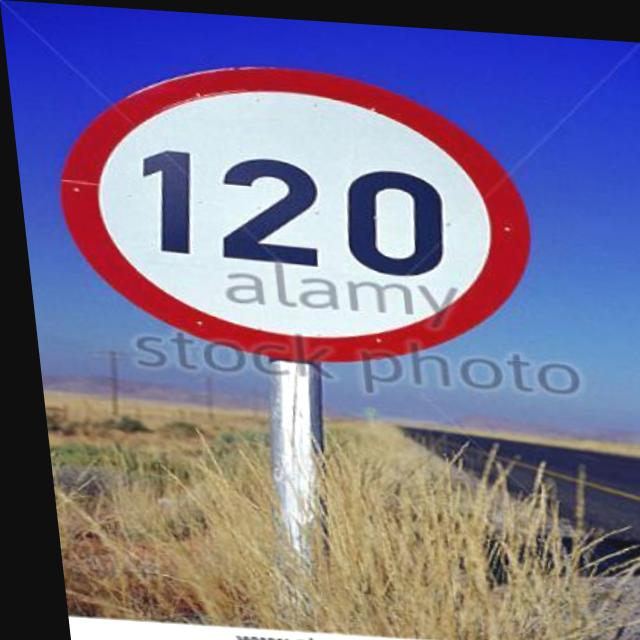limit120: (36, 43, 549, 382)
